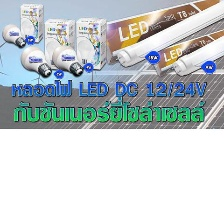carton: (95, 0, 224, 67), (149, 22, 223, 80), (73, 14, 108, 72), (41, 16, 76, 72), (17, 1, 44, 46)
light_bulb: (114, 0, 223, 72), (168, 29, 224, 77), (48, 42, 83, 77), (18, 43, 53, 78), (1, 22, 26, 48)
